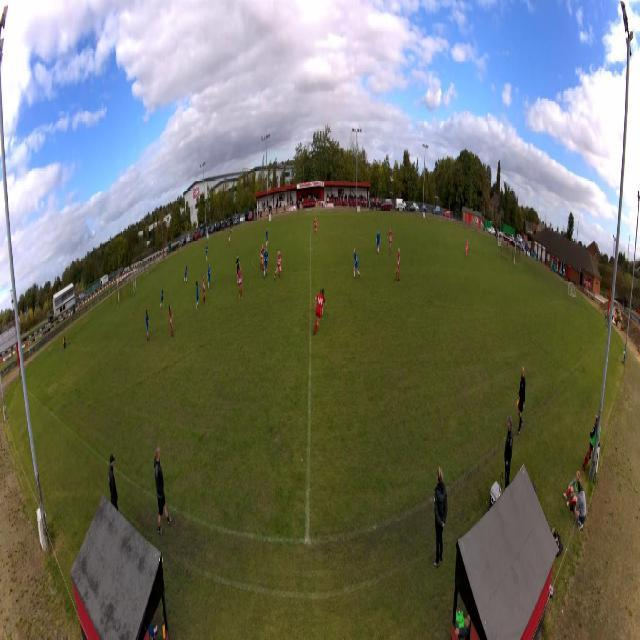ball: (258, 203, 261, 209)
player: (313, 286, 327, 337), (353, 246, 361, 282), (274, 248, 282, 280), (237, 266, 243, 301), (169, 304, 175, 339), (395, 247, 401, 282), (263, 246, 268, 280), (145, 309, 150, 341), (260, 244, 265, 272), (159, 285, 164, 312), (376, 228, 381, 255), (202, 273, 206, 305), (196, 280, 200, 311), (235, 253, 240, 277), (207, 263, 211, 292), (389, 226, 393, 255), (265, 225, 269, 249), (183, 262, 187, 284), (314, 216, 318, 237), (465, 239, 469, 258), (133, 280, 136, 299), (205, 243, 208, 261), (228, 232, 231, 249)
